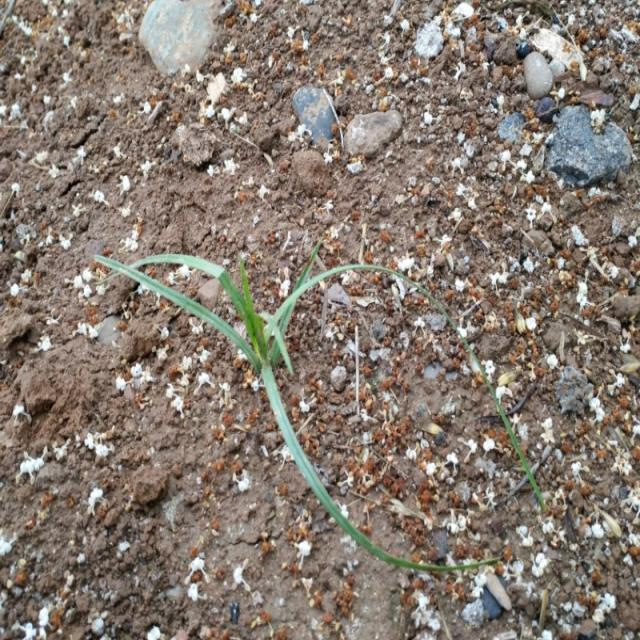sedge: (134, 215, 441, 570)
